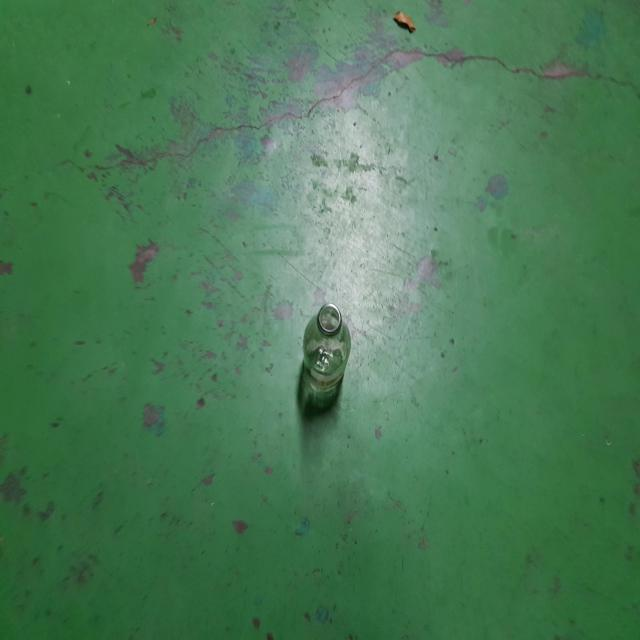glass: (303, 303, 351, 389)
